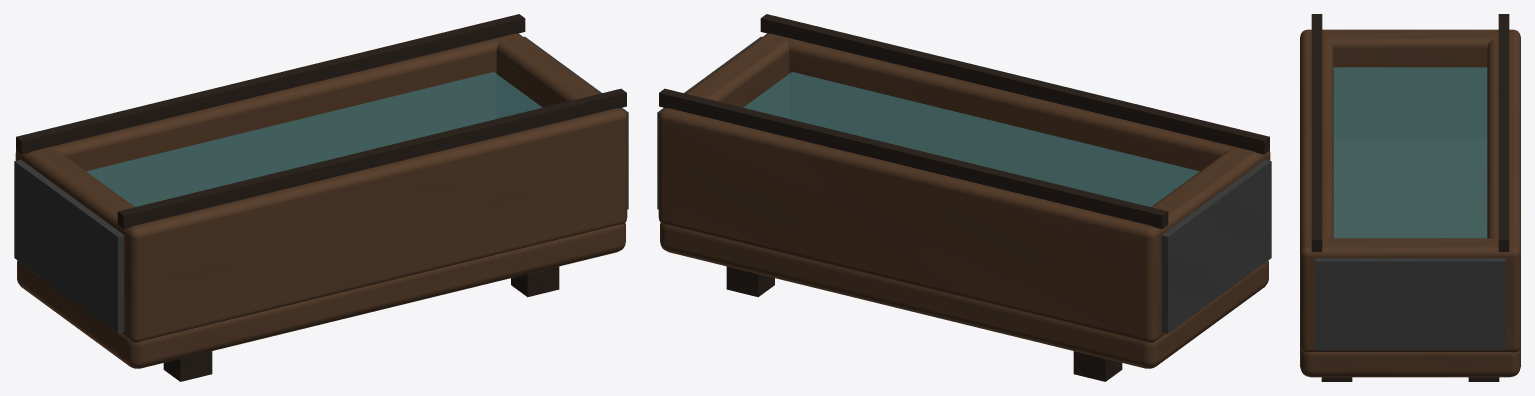
Rendered from sk-water-trough.glb.
3 renders of one model, left to right at view 1: azimuth 30°, elevation 25°; view 2: azimuth 150°, elevation 25°; view 3: azimuth 270°, elevation 25°, orthographic. The views are drawn at different scales.
Visible parts, largest first — view 1: settlement:water_trough-static-wood (×2), trough-water, settlement:water_trough-static-metal; view 2: settlement:water_trough-static-wood (×2), trough-water, settlement:water_trough-static-metal; view 3: settlement:water_trough-static-wood (×2), trough-water, settlement:water_trough-static-metal.
Boxes of the visible parts, <box> form: settlement:water_trough-static-wood (×2): <box>15,14,627,381</box>; trough-water: <box>86,72,542,206</box>; settlement:water_trough-static-metal: <box>14,36,628,333</box>; settlement:water_trough-static-wood (×2): <box>658,14,1270,381</box>; trough-water: <box>743,72,1199,206</box>; settlement:water_trough-static-metal: <box>657,36,1271,333</box>; settlement:water_trough-static-wood (×2): <box>1300,14,1520,381</box>; trough-water: <box>1333,67,1487,238</box>; settlement:water_trough-static-metal: <box>1315,258,1505,350</box>.
Size of the model in its own units: 1.76 by 0.6125 by 0.72.
Materials: 4 (3 with a texture image).
